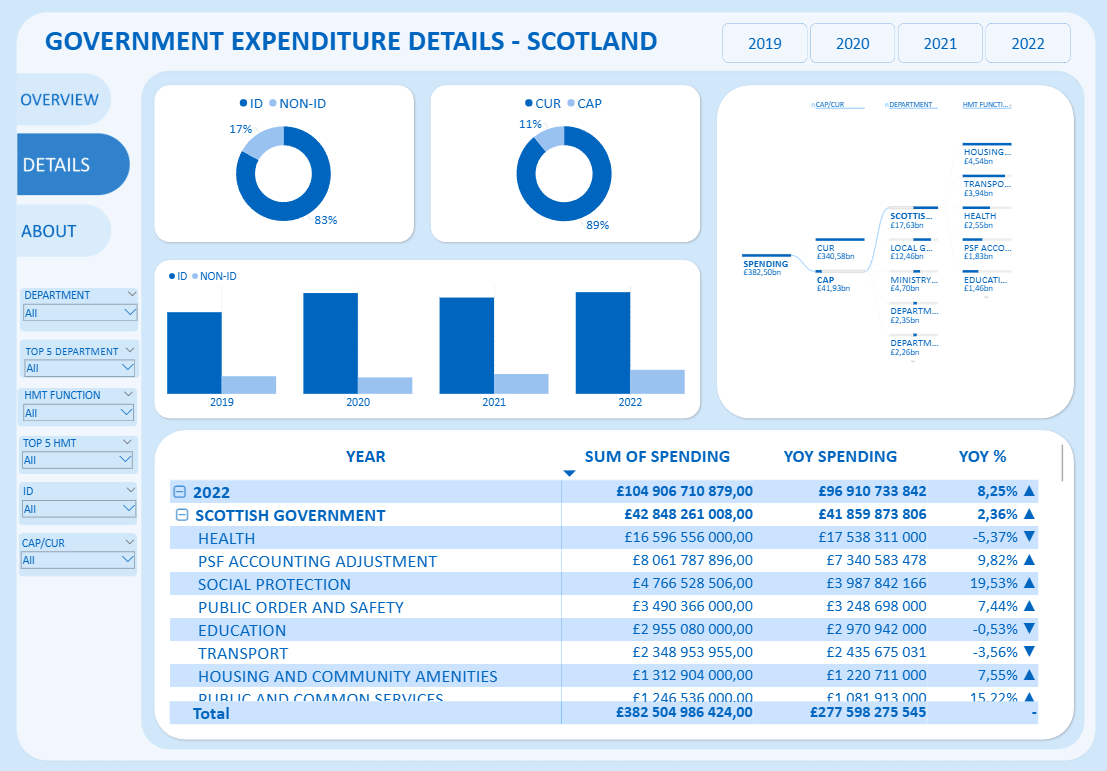

What the dashboard file says about the page in this screenshot:
{"tool":"powerbi","page":{"name":"SCOTLAND DETAIL","canvas":[4500,3100],"ordinal":1},"visuals":[{"type":"shape","box":[1725,335,1105,655],"z":0},{"type":"shape","box":[620,335,1065,655],"z":1000},{"type":"image","box":[20,50,4440,3020],"z":2000},{"type":"shape","box":[620,1035,2210,660],"z":3000},{"type":"shape","box":[620,1715,3705,1265],"z":4000},{"type":"textbox","box":[190,90,2680,180],"z":5000},{"type":"advancedSlicerVisual","fields":{"Values":["Dim_Calendar.Year"]},"box":[2865,80,1460,185],"z":6000},{"type":"pivotTable","fields":{"Rows":["Dim_Calendar.Year","Dim_DEPARTMENT.DEPARTMENT","Dim_HMT.HMT FUNCTION"],"Values":["Measure.SUM OF SPENDING","Measure.YoY SPENDING","Measure.YoY %"]},"box":[690,1780,3585,1130],"z":7000},{"type":"image","box":[50,513.3,490,300],"z":8000},{"type":"image","box":[50,256.7,415,300],"z":9000},{"type":"shape","box":[95,1365,480,155],"z":10000},{"type":"shape","box":[95,1160,475,175],"z":11000},{"type":"slicer","fields":{"Values":["Dim_DEPARTMENT.DEPARTMENT"]},"box":[100,1155,475,155],"z":12000},{"type":"shape","box":[90,1935,475,175],"z":13000},{"type":"slicer","fields":{"Values":["Dim_ID.ID"]},"box":[95,1940,475,155],"z":14000},{"type":"shape","box":[90,2140,475,175],"z":15000},{"type":"slicer","fields":{"Values":["Dim_CAP/CUR.CAP/CUR"]},"box":[90,2145,475,155],"z":16000},{"type":"shape","box":[90,1750,480,155],"z":17000},{"type":"donutChart","fields":{"Category":["Dim_ID.ID"],"Y":["Measure.SUM OF SPENDING"]},"box":[680,375,940,580],"z":18000},{"type":"slicer","fields":{"Values":["Dim_DEPARTMENT.DEPARTMENT"]},"box":[105,1380,460,145],"z":19000},{"type":"shape","box":[85,1560,480,155],"z":20000},{"type":"slicer","fields":{"Values":["Dim_HMT.HMT FUNCTION"]},"box":[100,1555,460,170],"z":21000},{"type":"slicer","fields":{"Values":["Dim_HMT.HMT FUNCTION"]},"box":[95,1745,460,170],"z":22000},{"type":"donutChart","fields":{"Y":["Measure.SUM OF SPENDING"],"Category":["Dim_CAP/CUR.CAP/CUR"]},"box":[1780,375,985,580],"z":23000},{"type":"shape","box":[2870,335,1455,1360],"z":24000},{"type":"decompositionTreeVisual","fields":{"Analyze":["Measure.SUM OF SPENDING"],"ExplainBy":["Dim_CAP/CUR.CAP/CUR","Dim_DEPARTMENT.DEPARTMENT","Dim_HMT.HMT FUNCTION"]},"box":[2955,405,1320,1250],"z":25000},{"type":"clusteredColumnChart","title":"CAP/CUR","fields":{"Category":["Dim_Calendar.Year"],"Y":["Measure.SUM OF SPENDING"],"Series":["Dim_ID.ID"]},"box":[680,1075,2080,580],"z":26000},{"type":"image","box":[50,780,415,300],"z":27000}]}

Visuals, with their boxes in screenshot pixels (x1, y1, x2, y2), scaled from the page's 4500x3100 canvas onto the 1107x771 screenshot:
shape: 424, 83, 696, 246
shape: 153, 83, 415, 246
image: 5, 12, 1097, 764
shape: 153, 257, 696, 422
shape: 153, 427, 1064, 741
textbox: 47, 22, 706, 67
advancedSlicerVisual - Dim_Calendar.Year: 705, 20, 1064, 66
pivotTable - Dim_Calendar.Year x Dim_DEPARTMENT.DEPARTMENT: 170, 443, 1052, 724
image: 12, 128, 133, 202
image: 12, 64, 114, 138
shape: 23, 339, 141, 378
shape: 23, 289, 140, 332
slicer - Dim_DEPARTMENT.DEPARTMENT: 25, 287, 141, 326
shape: 22, 481, 139, 525
slicer - Dim_ID.ID: 23, 482, 140, 521
shape: 22, 532, 139, 576
slicer - Dim_CAP/CUR.CAP/CUR: 22, 533, 139, 572
shape: 22, 435, 140, 474
donutChart - Dim_ID.ID x Measure.SUM OF SPENDING: 167, 93, 399, 238
slicer - Dim_DEPARTMENT.DEPARTMENT: 26, 343, 139, 379
shape: 21, 388, 139, 427
slicer - Dim_HMT.HMT FUNCTION: 25, 387, 138, 429
slicer - Dim_HMT.HMT FUNCTION: 23, 434, 137, 476
donutChart - Measure.SUM OF SPENDING x Dim_CAP/CUR.CAP/CUR: 438, 93, 680, 238
shape: 706, 83, 1064, 422
decompositionTreeVisual - Measure.SUM OF SPENDING x Dim_CAP/CUR.CAP/CUR: 727, 101, 1052, 412
"CAP/CUR" clusteredColumnChart: 167, 267, 679, 412
image: 12, 194, 114, 269
